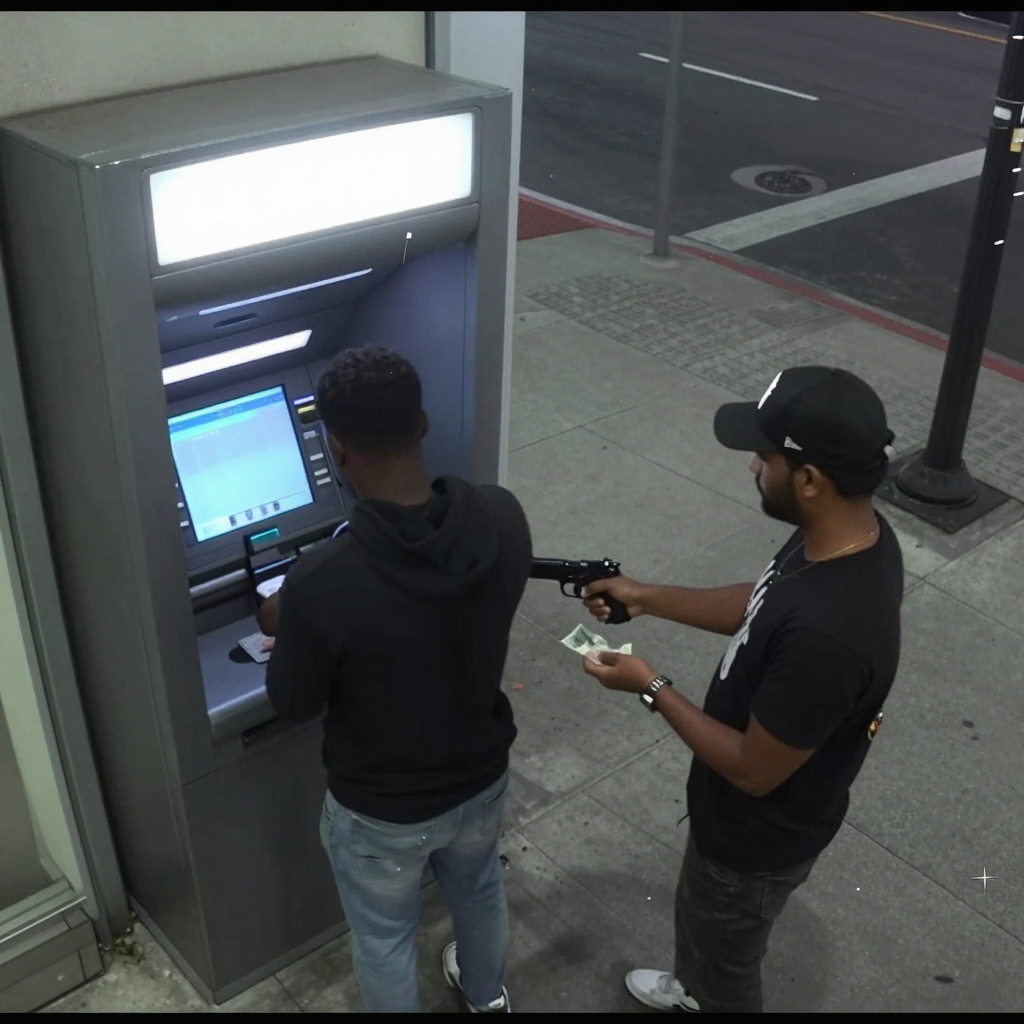Robbery: (578, 364, 905, 1014), (257, 345, 534, 1014)
Shooting: (523, 556, 624, 620)
